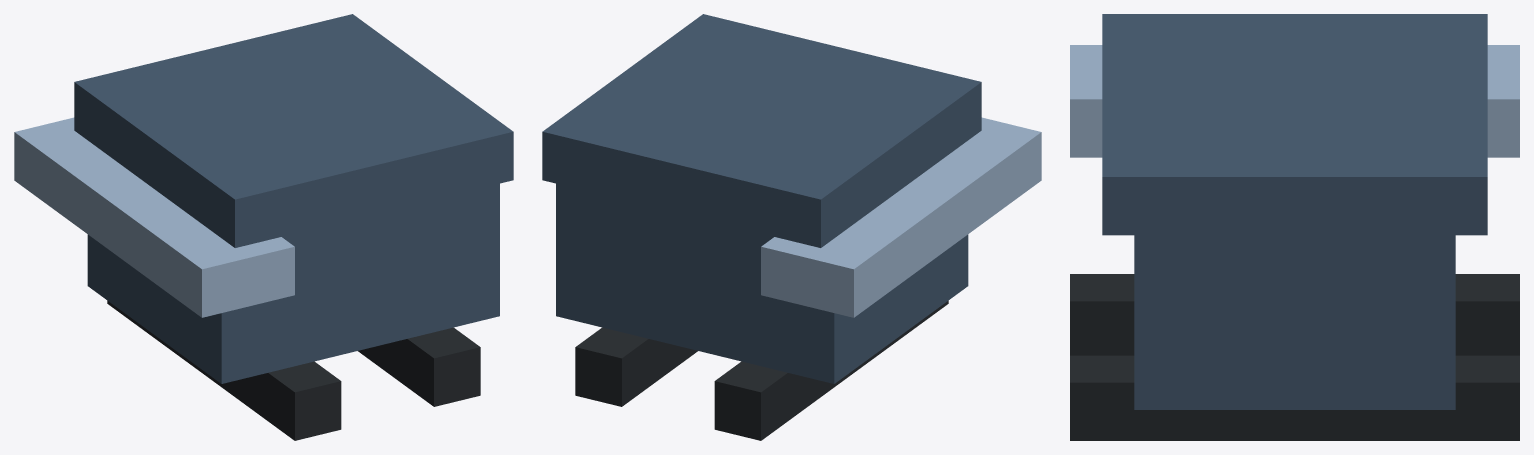
File: minecart.obj
3 views of the same model, side by side, from view 1: azimuth 30°, elevation 25°; view 2: azimuth 150°, elevation 25°; view 3: azimuth 270°, elevation 25° (orthographic). The views are drawn at different scales.
Bounding box in the file's own units: 7 × 5 × 7.
Materials: 1 (1 with a texture image).
